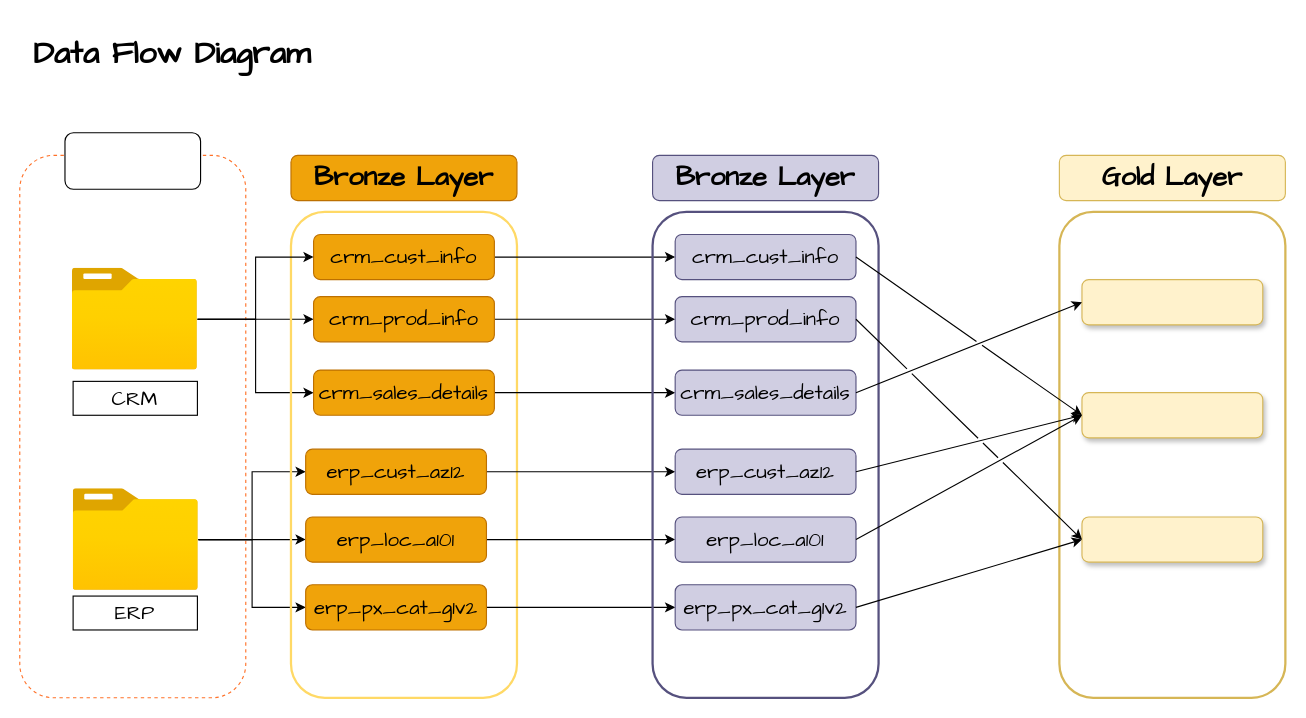
Image size: 1306x718. Some labels were removed from this diagram. The centre of each missing label's shape, as x and y in pixels:
"dim_customers" belongs at point (1173, 416).
"dim_products" belongs at point (1173, 540).
"fact_sales" belongs at point (1173, 303).
"Sources" belongs at point (132, 160).
